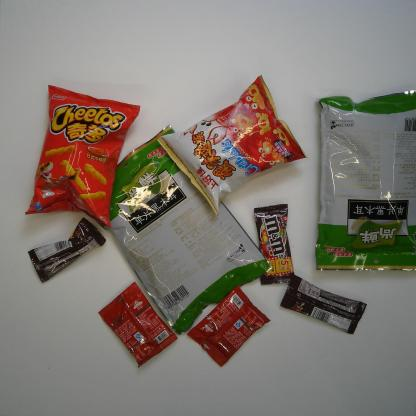Chocolate: (278, 273, 368, 335), (27, 217, 107, 283), (252, 200, 296, 286)
Dried Food: (76, 124, 275, 338), (312, 84, 416, 272)
Instant Drink: (186, 285, 272, 368), (96, 282, 178, 368)
Puffed Food: (157, 71, 307, 216), (23, 84, 141, 228)
